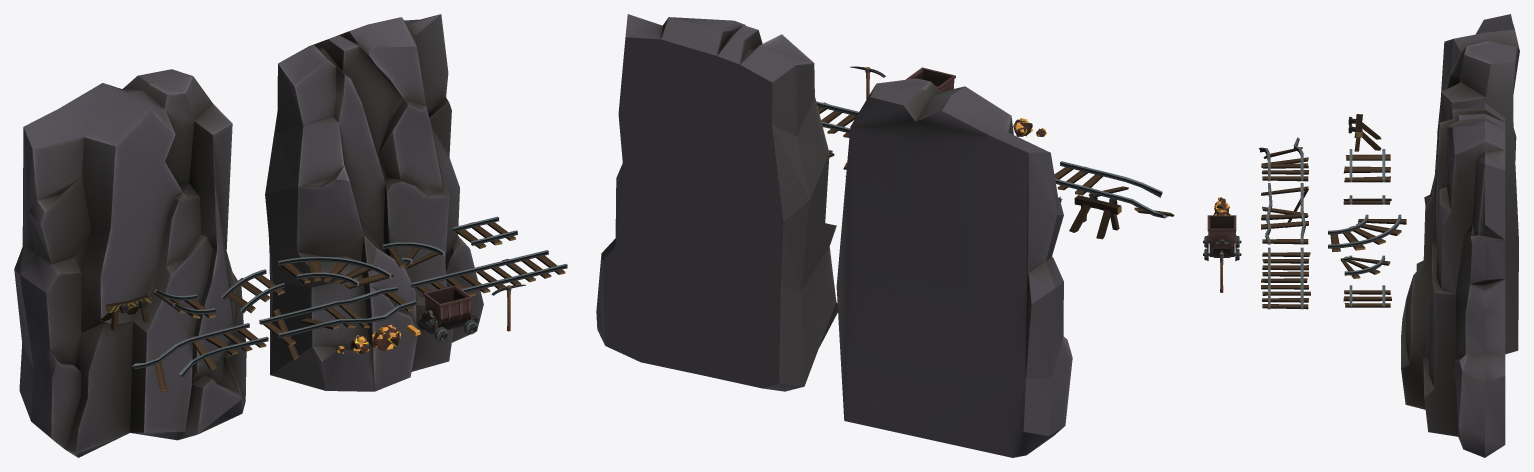
File: LowPoly_MineAssets.fbx
3 renders of one model, left to right at view 1: azimuth 30°, elevation 25°; view 2: azimuth 150°, elevation 25°; view 3: azimuth 270°, elevation 25°, orthographic. The views are drawn at different scales.
Visible parts, largest first — view 1: Cliff01, Cliff02, Track_Straight_Broken02, Track_Straight_Large, Track_Straight_Broken01, Track_Turn_Large, Wagon, Track_Turn_Down, Track_Straight_Short, Track_Stop, Track_Turn_Short, Track_Turn_Up (+2 smaller); view 2: Cliff01, Cliff02, Track_Straight_Broken01, Track_Stop, Track_Straight_Large, Wagon; view 3: Cliff02, Cliff01, Track_Straight_Large, Track_Straight_Broken02, Track_Turn_Large, Track_Straight_Broken01, Track_Turn_Up, Wagon, Track_Straight_Short, Track_Turn_Short, Track_Stop, Track_Turn_Down (+1 smaller).
Boxes of the visible parts, box(x1,y1,x2,y2) form: Cliff01: box(14, 69, 246, 457); Cliff02: box(265, 14, 483, 391); Track_Straight_Broken02: box(259, 287, 416, 360); Track_Straight_Large: box(410, 250, 567, 296); Track_Straight_Broken01: box(132, 323, 268, 392); Track_Turn_Large: box(277, 256, 393, 289); Wagon: box(423, 285, 472, 325); Track_Turn_Down: box(221, 269, 285, 313); Track_Straight_Short: box(452, 216, 517, 248); Track_Stop: box(101, 294, 151, 330); Track_Turn_Short: box(382, 242, 444, 268); Track_Turn_Up: box(153, 289, 215, 318); Cliff01: box(836, 78, 1072, 457); Cliff02: box(596, 14, 837, 391); Track_Straight_Broken01: box(1054, 161, 1174, 218); Track_Stop: box(1069, 193, 1121, 239); Track_Straight_Large: box(816, 101, 858, 137); Wagon: box(906, 67, 955, 91); Cliff02: box(1401, 103, 1505, 457); Cliff01: box(1435, 14, 1519, 354); Track_Straight_Large: box(1261, 247, 1310, 309); Track_Straight_Broken02: box(1261, 183, 1308, 244); Track_Turn_Large: box(1328, 214, 1406, 251); Track_Straight_Broken01: box(1259, 137, 1308, 181); Track_Turn_Up: box(1343, 149, 1390, 182); Wagon: box(1207, 215, 1236, 249); Track_Straight_Short: box(1343, 285, 1391, 307); Track_Turn_Short: box(1340, 255, 1390, 278); Track_Stop: box(1348, 114, 1381, 151); Track_Turn_Down: box(1343, 195, 1391, 204).
Size of the model in its own units: 1123 by 825 by 785.
5 materials, 5 textured.
